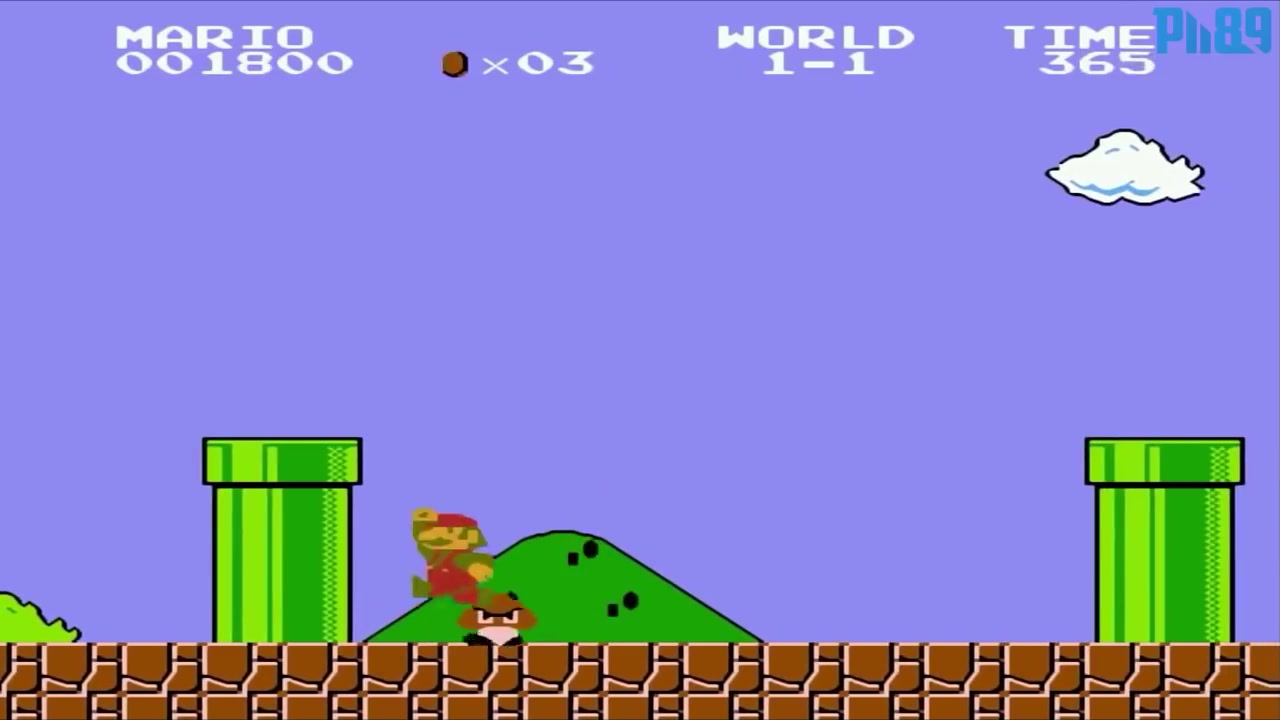mario: (405, 500, 500, 613)
